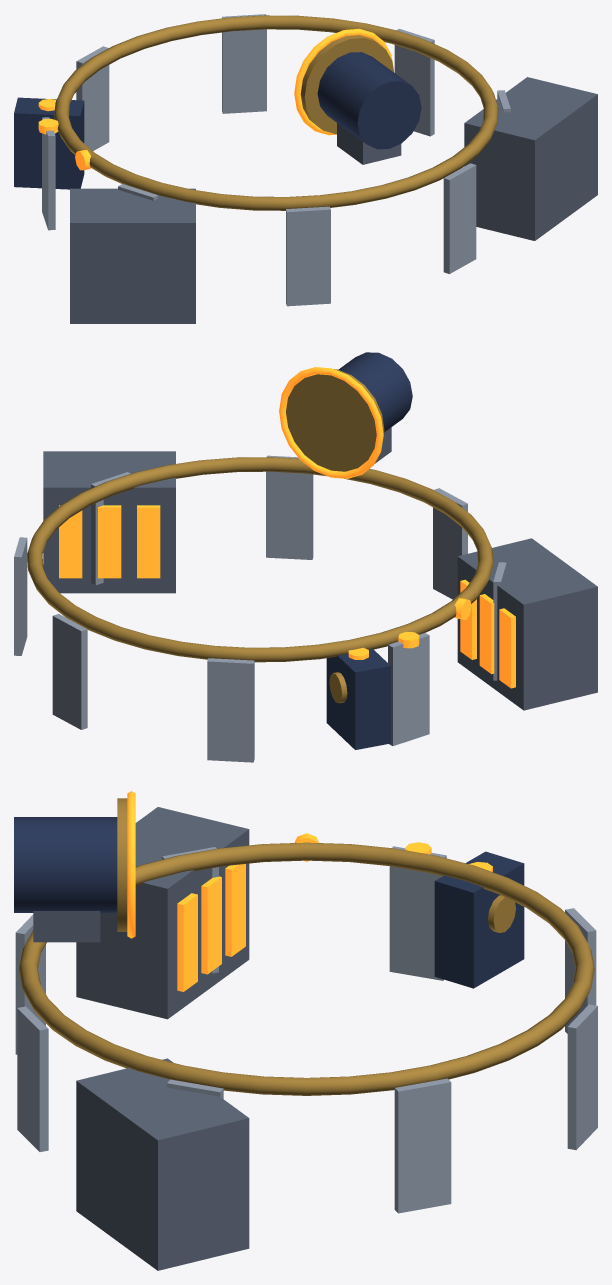
Rendered from tower_overclock_efficiency_s7.glb.
The picture shows the model from 3 angles, top to bottom: view 1: azimuth 30°, elevation 25°; view 2: azimuth 150°, elevation 25°; view 3: azimuth 270°, elevation 25°; orthographic projection. The views are drawn at different scales.
Parts seen in each view (by area): view 1: overclock_battery_b, overclock_battery, overclock_coolant_loop, overclock_governor, overclock_base_fin6, overclock_regulator, overclock_base_fin2, overclock_base_fin5, overclock_governor_wheel, overclock_base_fin3, overclock_base_fin1, overclock_base_fin0 (+2 smaller); view 2: overclock_battery_b, overclock_coolant_loop, overclock_battery, overclock_governor_wheel, overclock_regulator, overclock_base_fin1, overclock_base_fin5, overclock_base_fin0, overclock_base_fin2, overclock_governor, overclock_base_fin6, overclock_governor_glow (+9 smaller); view 3: overclock_battery, overclock_coolant_loop, overclock_battery_b, overclock_governor, overclock_regulator, overclock_base_fin3, overclock_base_fin0, overclock_base_fin5, overclock_base_fin2, overclock_governor_mount, overclock_battery_b_cell-0.1, overclock_battery_b_cell0 (+6 smaller).
Boxes of the visible parts, x1=… form: overclock_battery_b: x1=70, y1=188, x2=195, y2=323; overclock_battery: x1=464, y1=77, x2=597, y2=240; overclock_coolant_loop: x1=54, y1=15, x2=498, y2=210; overclock_governor: x1=317, y1=52, x2=421, y2=149; overclock_base_fin6: x1=286, y1=206, x2=330, y2=306; overclock_regulator: x1=14, y1=97, x2=84, y2=189; overclock_base_fin2: x1=222, y1=14, x2=266, y2=113; overclock_base_fin5: x1=443, y1=163, x2=476, y2=273; overclock_governor_wheel: x1=300, y1=35, x2=393, y2=134; overclock_base_fin3: x1=394, y1=28, x2=434, y2=136; overclock_base_fin1: x1=76, y1=46, x2=109, y2=150; overclock_base_fin0: x1=42, y1=117, x2=55, y2=230; overclock_battery_b: x1=457, y1=538, x2=597, y2=710; overclock_coolant_loop: x1=27, y1=457, x2=493, y2=662; overclock_battery: x1=43, y1=451, x2=175, y2=593; overclock_governor_wheel: x1=286, y1=369, x2=384, y2=471; overclock_regulator: x1=326, y1=648, x2=390, y2=749; overclock_base_fin1: x1=207, y1=658, x2=254, y2=762; overclock_base_fin5: x1=266, y1=455, x2=313, y2=559; overclock_base_fin0: x1=388, y1=633, x2=429, y2=745; overclock_base_fin2: x1=52, y1=614, x2=87, y2=729; overclock_governor: x1=338, y1=352, x2=412, y2=432; overclock_base_fin6: x1=433, y1=488, x2=467, y2=599; overclock_governor_glow: x1=279, y1=367, x2=383, y2=478; overclock_battery: x1=76, y1=1058, x2=249, y2=1270; overclock_coolant_loop: x1=19, y1=842, x2=594, y2=1095; overclock_battery_b: x1=76, y1=807, x2=249, y2=1019; overclock_governor: x1=14, y1=817, x2=117, y2=912; overclock_regulator: x1=434, y1=851, x2=524, y2=988; overclock_base_fin3: x1=394, y1=1078, x2=451, y2=1213; overclock_base_fin0: x1=389, y1=846, x2=446, y2=980; overclock_base_fin5: x1=17, y1=1006, x2=48, y2=1151; overclock_base_fin2: x1=567, y1=1004, x2=597, y2=1150; overclock_governor_mount: x1=33, y1=911, x2=100, y2=942; overclock_battery_b_cell-0.1: x1=177, y1=893, x2=197, y2=991; overclock_battery_b_cell0: x1=201, y1=876, x2=221, y2=974.
Bounding box in the file's own units: 1.64 × 0.705 × 1.22.
